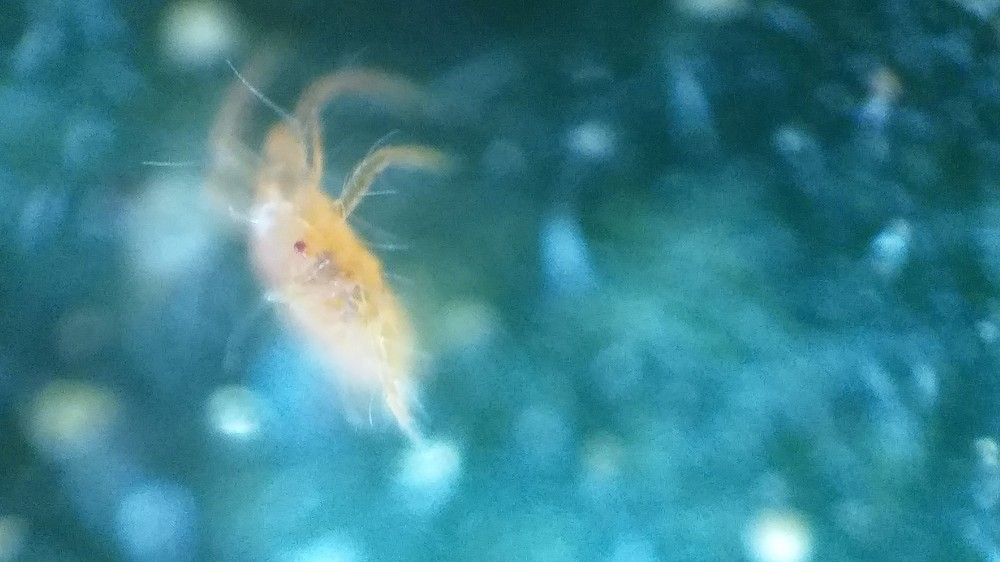Aracnido Rojo: (169, 48, 496, 470)
